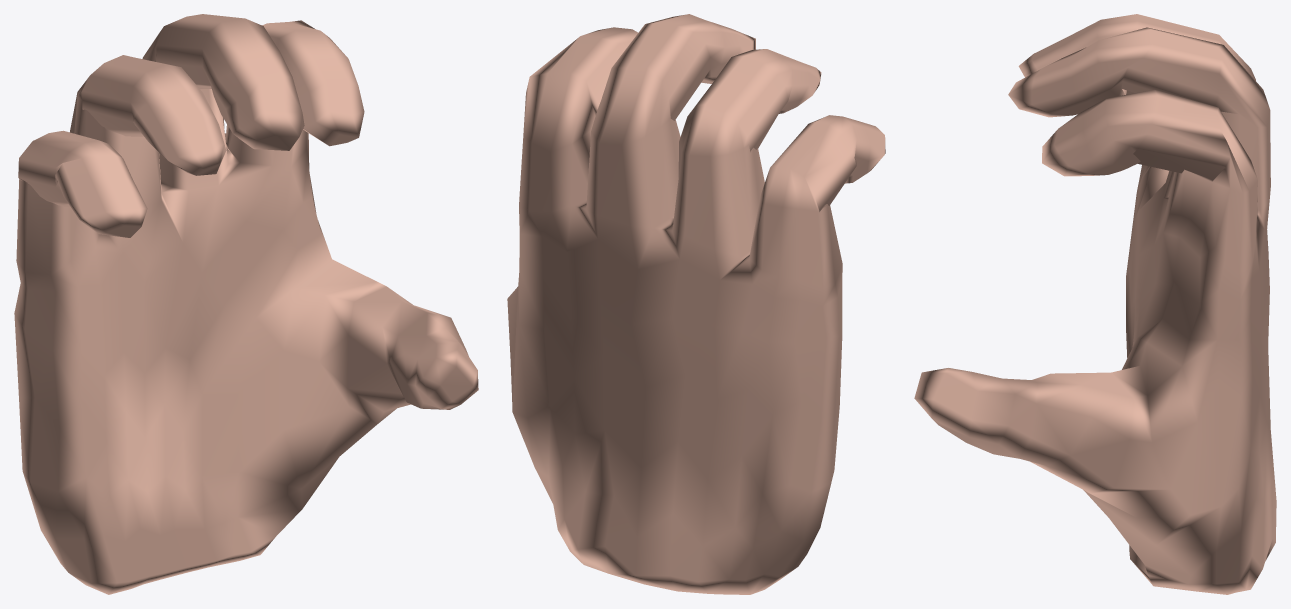
Rendered from ANGULO_COM_POLEGAR.obj.
3 renders of one model, left to right at view 1: azimuth 30°, elevation 25°; view 2: azimuth 150°, elevation 25°; view 3: azimuth 270°, elevation 25°, orthographic. The views are drawn at different scales.
Visible parts, largest first — view 1: mao_dir:mao_dir; view 2: mao_dir:mao_dir; view 3: mao_dir:mao_dir.
Part boxes in pixels (x1,y1,x2,y2): mao_dir:mao_dir: (14, 14, 478, 594); mao_dir:mao_dir: (507, 14, 885, 594); mao_dir:mao_dir: (914, 14, 1276, 594).
Size of the model in its own units: 135 by 193 by 118.
